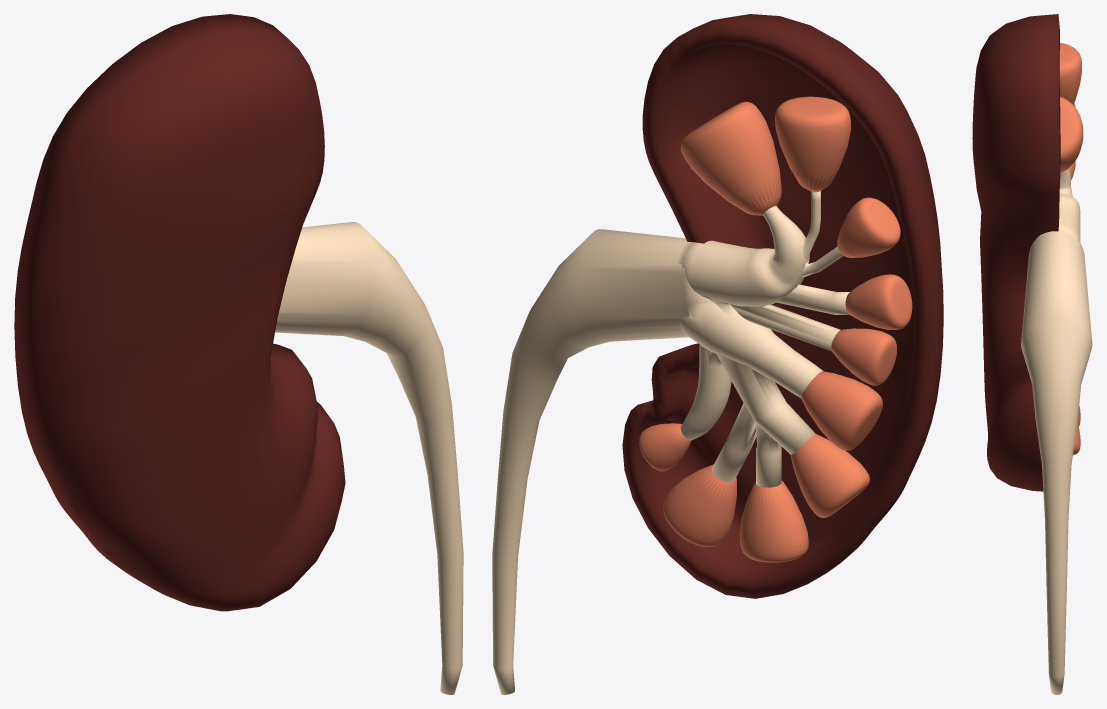
The model's file is kidney.fbx.
The picture shows the model from 3 angles, left to right: view 1: azimuth 30°, elevation 25°; view 2: azimuth 150°, elevation 25°; view 3: azimuth 270°, elevation 25°; orthographic projection. The views are drawn at different scales.
Parts seen in each view (by area): view 1: Cortex, Renal Pelvis; view 2: Cortex, Renal Pelvis, Renal Pyramid, Renal Pyramid.001, Renal Pyramid.008, Renal Pyramid.004, Renal Pyramid.007, Renal Pyramid.006, Renal Pyramid.002, Renal Pyramid.003, Renal Pyramid.005, Renal Pyramid.009; view 3: Cortex, Renal Pelvis, Renal Pyramid, Renal Pyramid.001.
Boxes of the visible parts, x1,y1,x2,y2 form: Cortex: [14, 14, 345, 611]; Renal Pelvis: [275, 222, 463, 694]; Cortex: [622, 14, 943, 598]; Renal Pelvis: [492, 191, 849, 694]; Renal Pyramid: [680, 101, 781, 215]; Renal Pyramid.001: [775, 96, 850, 192]; Renal Pyramid.008: [739, 480, 808, 562]; Renal Pyramid.004: [801, 371, 882, 450]; Renal Pyramid.007: [663, 464, 736, 547]; Renal Pyramid.006: [790, 434, 869, 517]; Renal Pyramid.002: [837, 197, 900, 257]; Renal Pyramid.003: [845, 274, 912, 329]; Renal Pyramid.005: [831, 328, 896, 385]; Renal Pyramid.009: [639, 423, 691, 471]; Cortex: [972, 14, 1060, 491]; Renal Pelvis: [1021, 168, 1092, 694]; Renal Pyramid: [1060, 97, 1083, 172]; Renal Pyramid.001: [1059, 43, 1081, 104].
Size of the model in its own units: 270 by 425 by 80.83.
